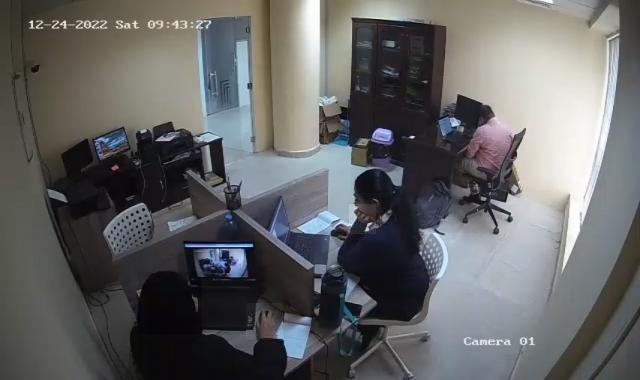no_apron: (247, 304, 284, 340), (349, 204, 376, 234)
no_gloves: (138, 272, 202, 334), (351, 168, 391, 221), (475, 104, 494, 128)
no_hairnet: (349, 194, 382, 224)
